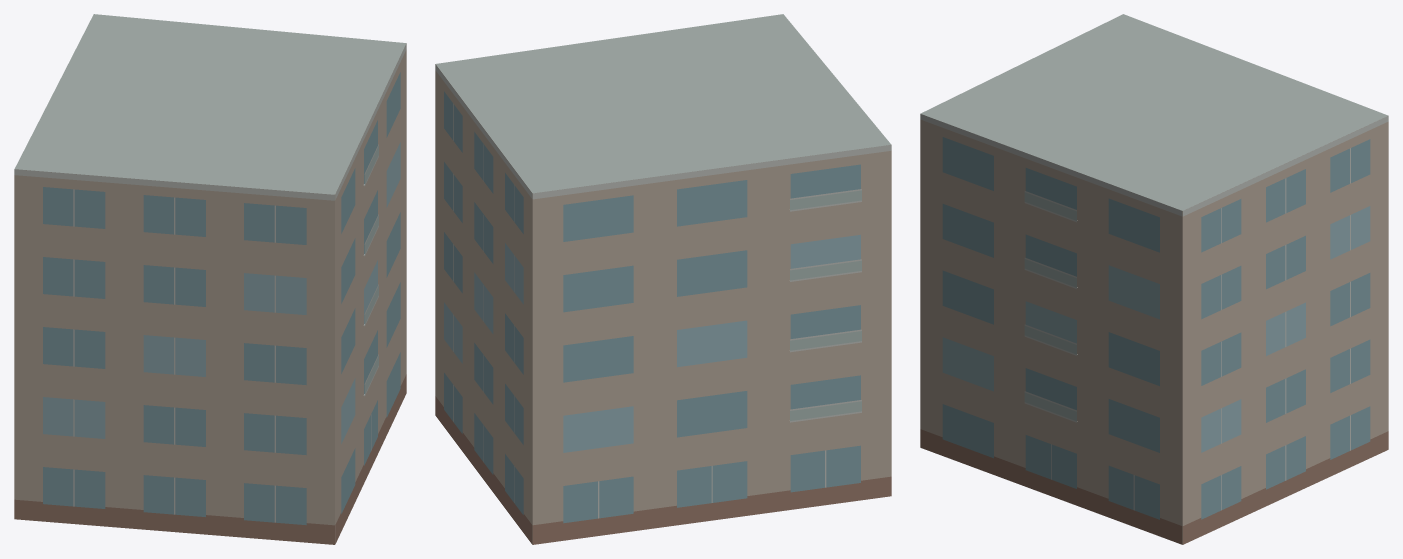
Rendered from survey-upis-32536779.glb.
3 renders of one model, left to right at view 1: azimuth 30°, elevation 25°; view 2: azimuth 150°, elevation 25°; view 3: azimuth 270°, elevation 25°, orthographic. The views are drawn at different scales.
Parts seen in each view (by area): view 1: survey-upis-32536779.tmp; view 2: survey-upis-32536779.tmp; view 3: survey-upis-32536779.tmp.
Boxes of the visible parts, box(x1,y1,x2,y2) form: survey-upis-32536779.tmp: box(14, 14, 406, 544); survey-upis-32536779.tmp: box(435, 14, 891, 544); survey-upis-32536779.tmp: box(920, 14, 1388, 544).
Size of the model in its own units: 17.97 by 14.2 by 18.06.
